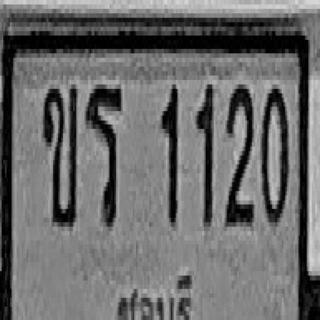A02: (37, 63, 88, 241)
A35: (80, 79, 128, 238)
N00: (258, 77, 296, 234)
N01: (154, 68, 188, 236), (196, 76, 222, 235)
N02: (226, 74, 265, 253)
P13: (105, 279, 208, 320)
